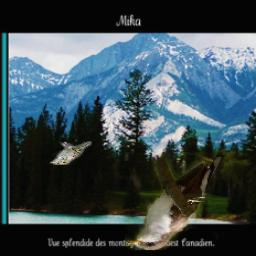Cuckoo: (126, 152, 226, 250)
Sparrow: (50, 141, 92, 165)
